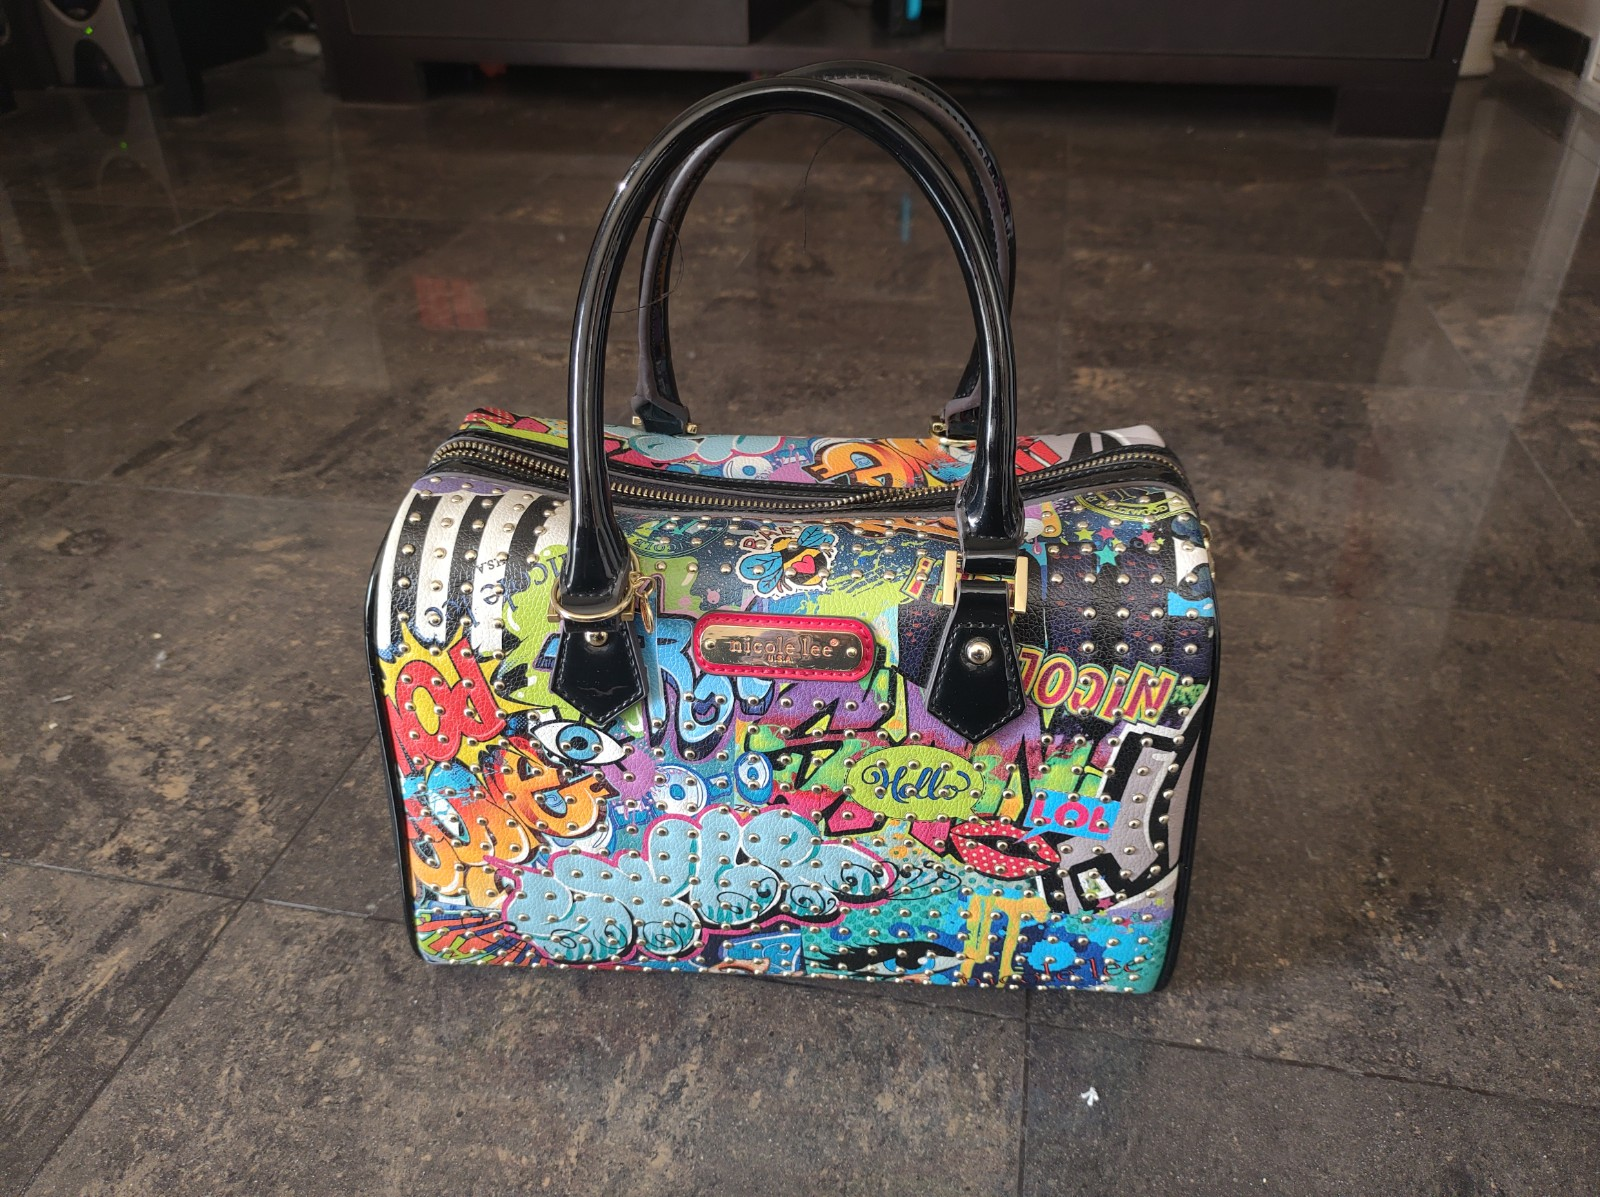cartera: (215, 26, 1384, 1065)
cuero: (357, 407, 1195, 1000)
